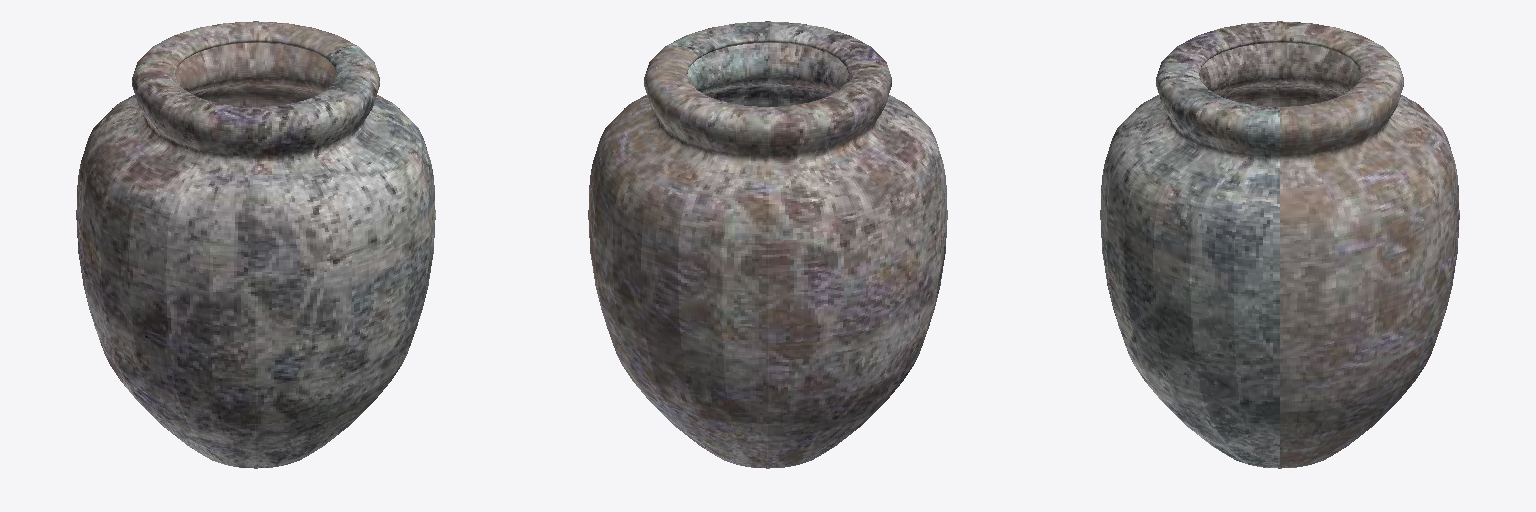
The picture shows the model from 3 angles: view 1: azimuth 30°, elevation 25°; view 2: azimuth 150°, elevation 25°; view 3: azimuth 270°, elevation 25°; orthographic projection.
Visible parts, largest first — view 1: Lathe; view 2: Lathe; view 3: Lathe.
Part boxes in pixels (left/top/right/bottom): Lathe: left=76, top=21, right=435, bottom=468; Lathe: left=588, top=21, right=947, bottom=468; Lathe: left=1100, top=21, right=1459, bottom=468.
Bounding box in the file's own units: 280 × 322 × 280.
Materials: 1 (1 with a texture image).